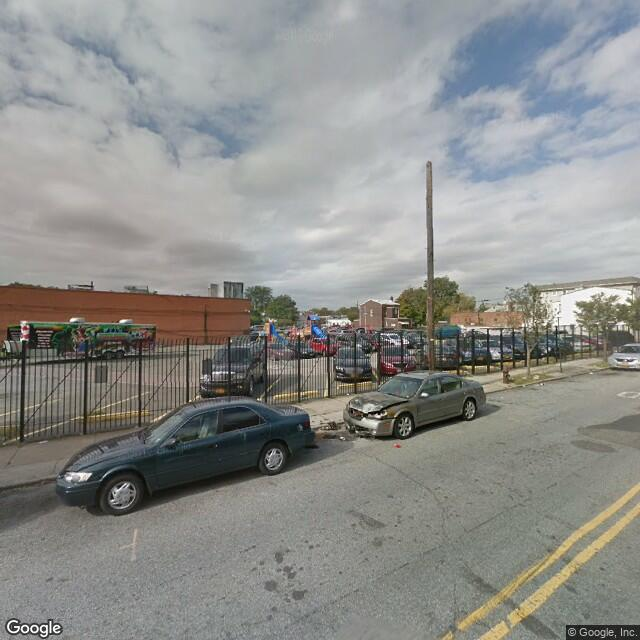litter: (305, 443, 319, 451), (518, 384, 531, 391), (336, 433, 347, 441), (37, 437, 48, 445), (391, 441, 399, 450), (533, 371, 539, 381), (519, 375, 528, 380), (586, 369, 592, 376), (345, 391, 349, 396)
